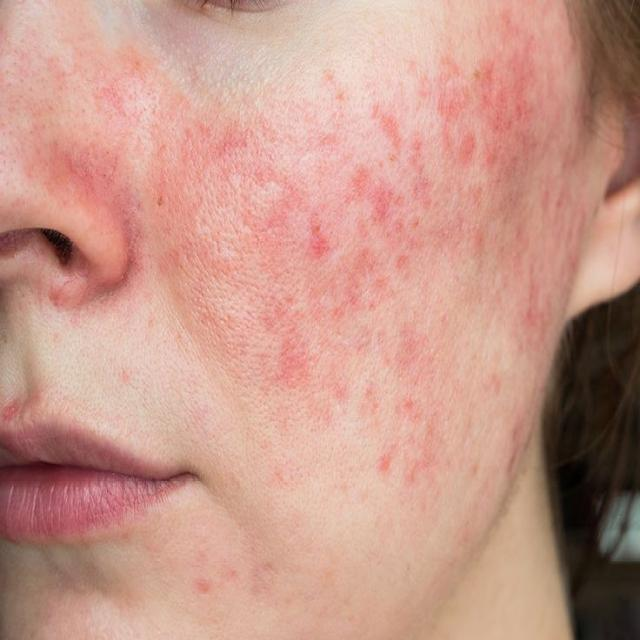Rosacea: (138, 14, 586, 508), (9, 126, 135, 244)
